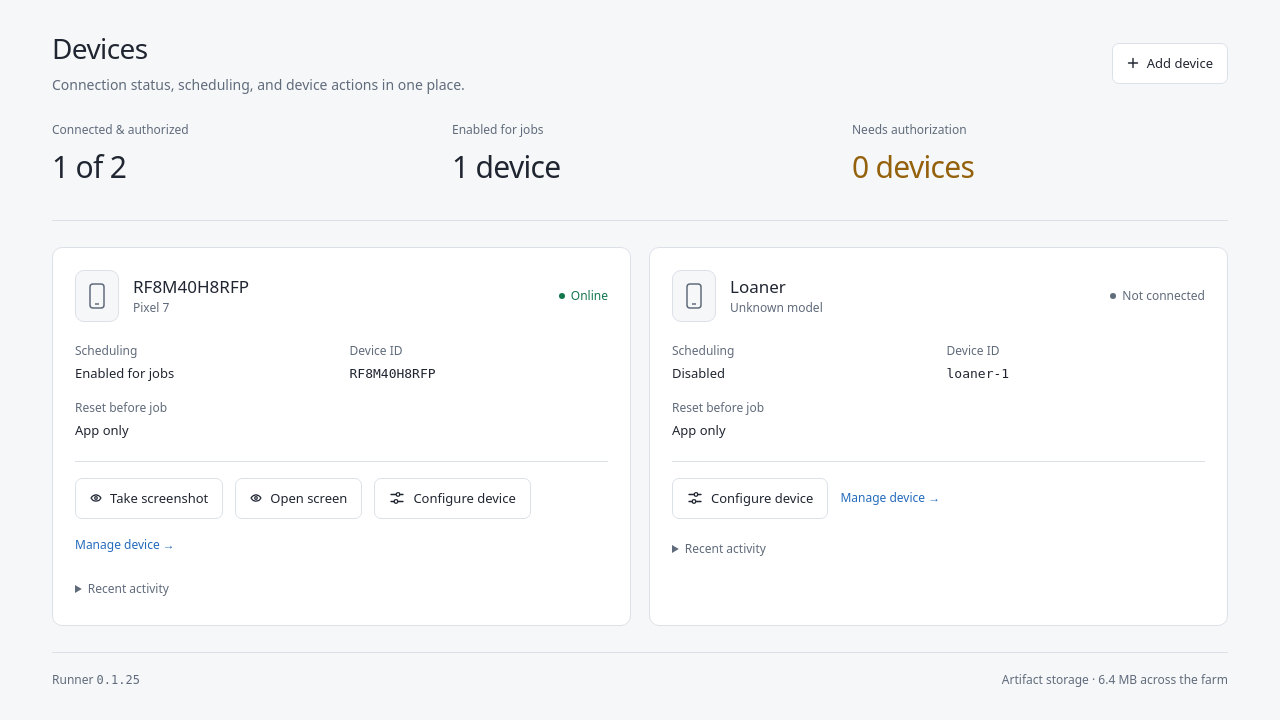
adding a device opens a form, submits it, and shows the returned setup instructions
Click the button "Add device".
click(1170, 63)  # box left=1112, top=42, right=1228, bottom=84
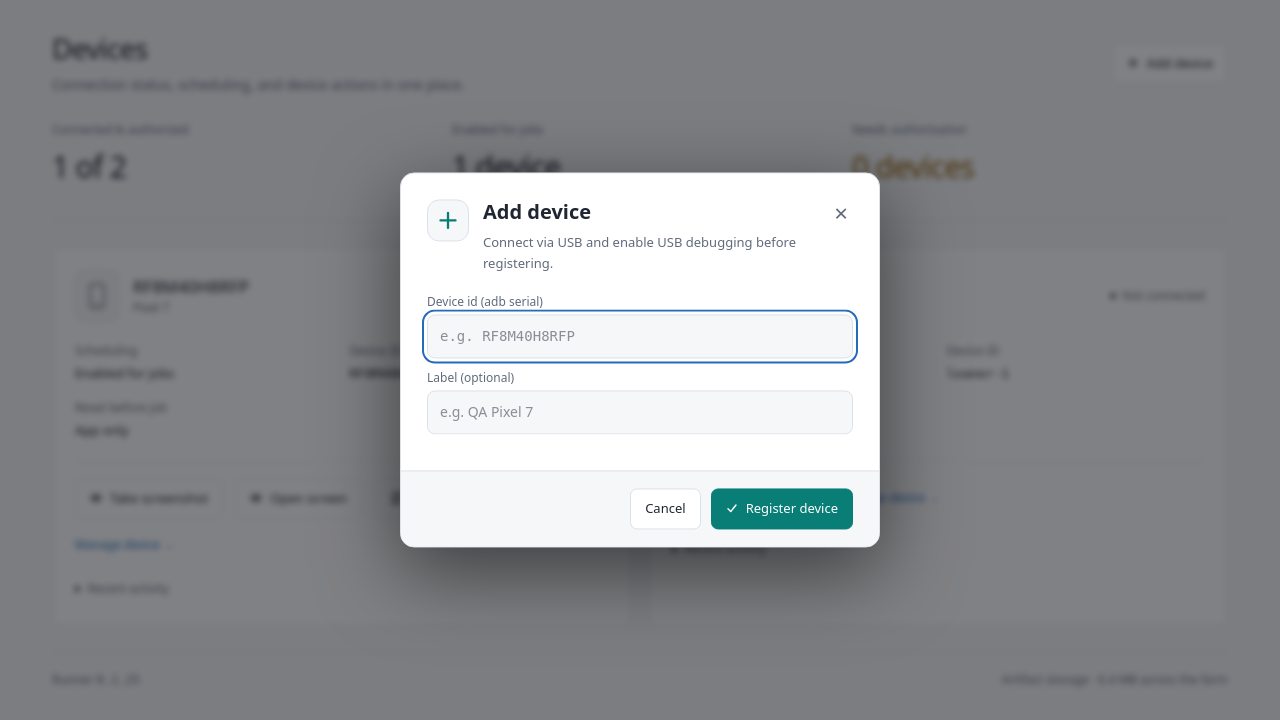
Type "new-1" into the field labelled "Device id (adb serial)".
click(640, 336); type("new-1")  # box left=427, top=314, right=853, bottom=358
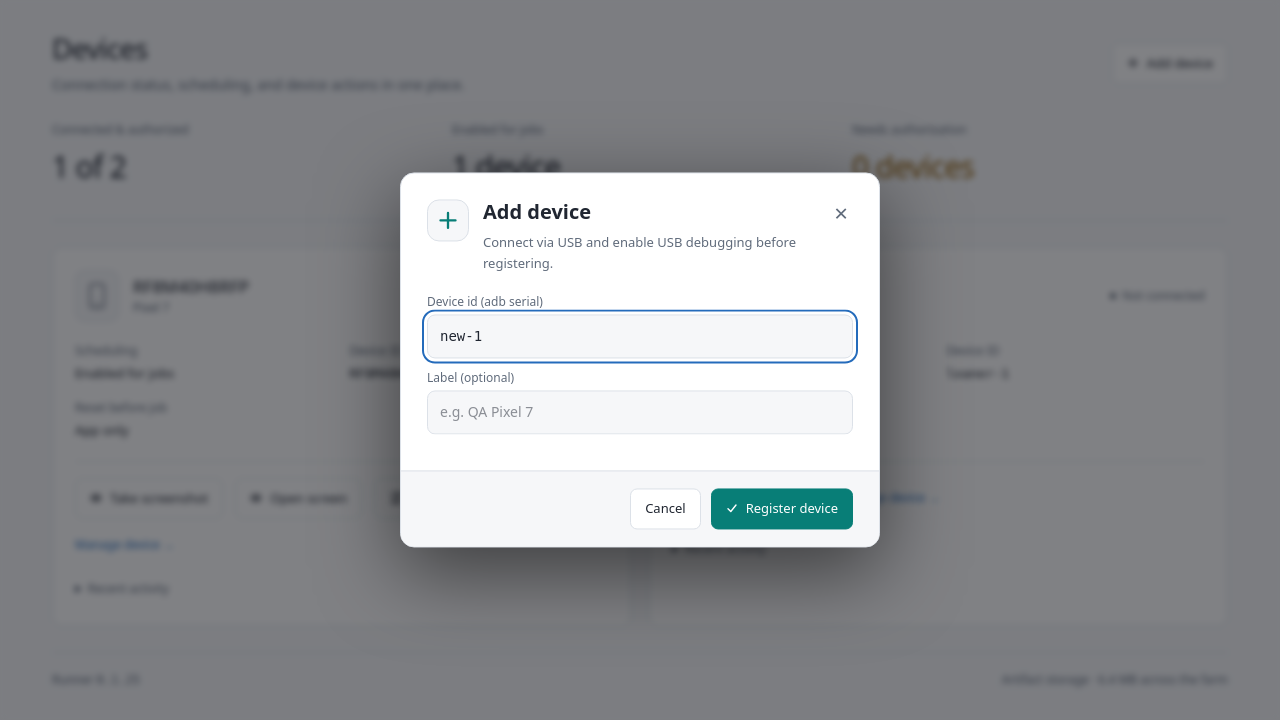
Type "New" into the field labelled "Label (optional)".
click(640, 412); type("New")  # box left=427, top=390, right=853, bottom=434
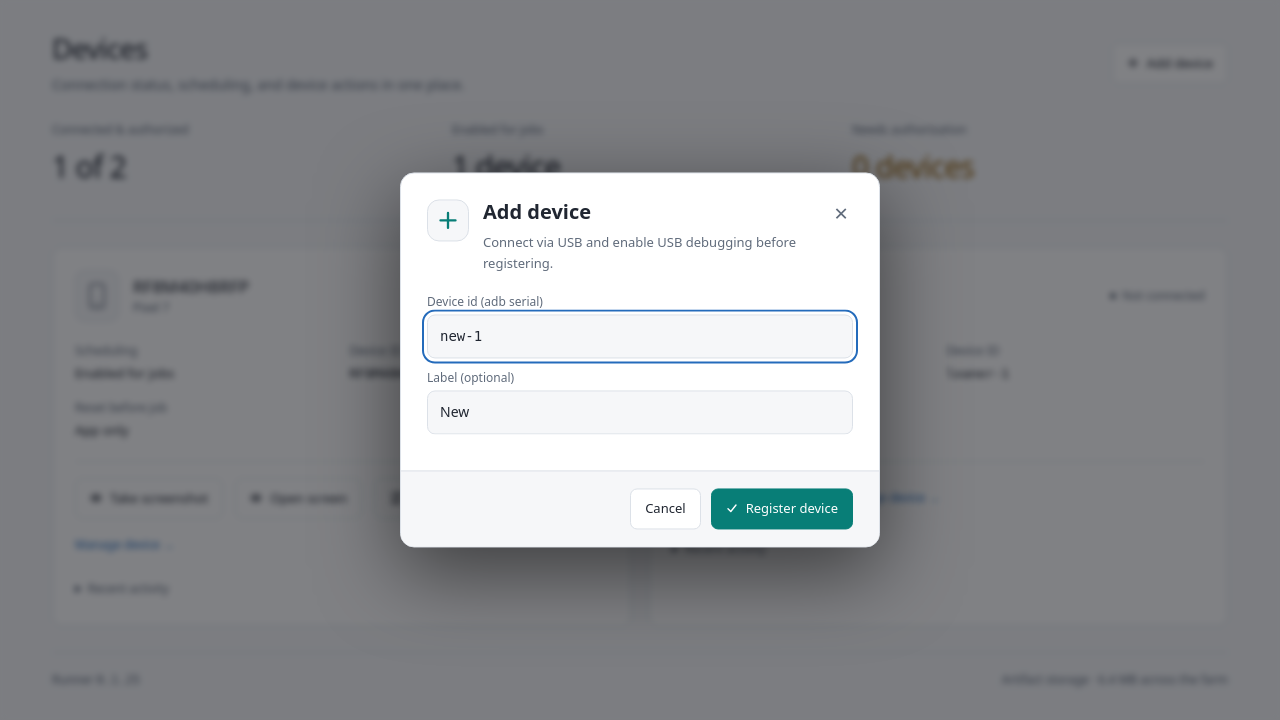
Click the button "Register device".
click(782, 509)  # box left=711, top=488, right=853, bottom=530
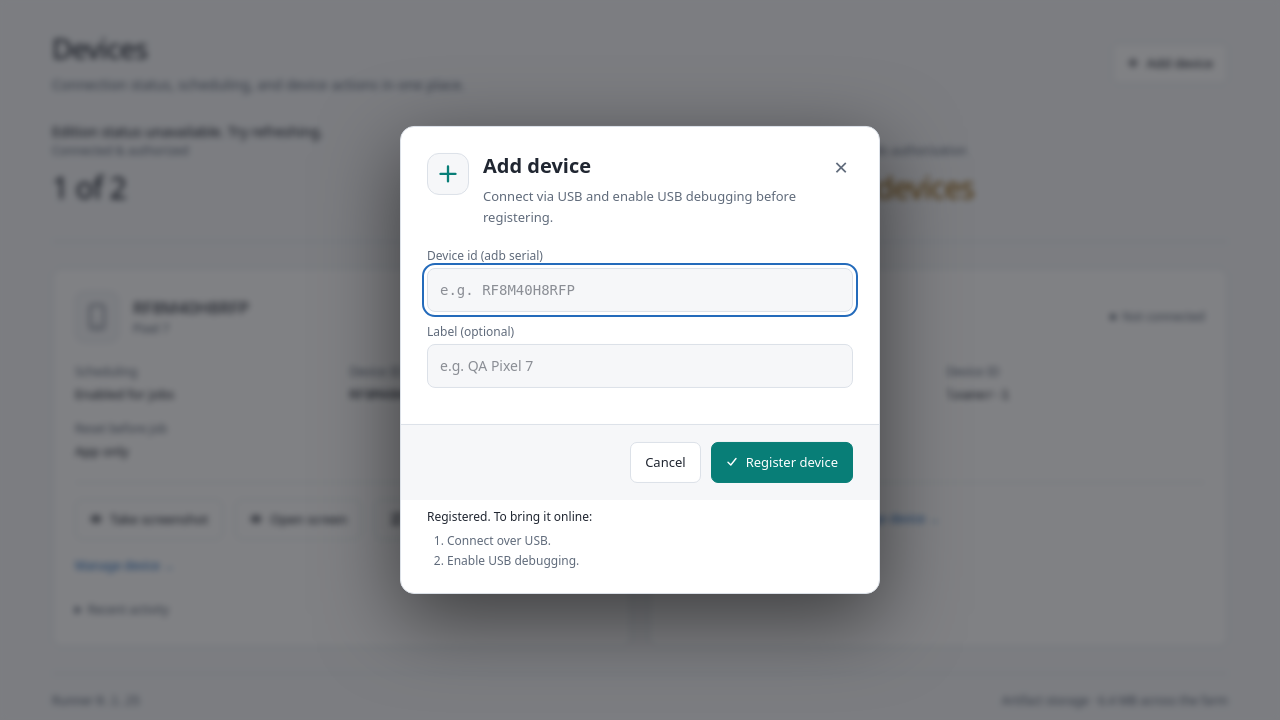
Expected: the list item "Connect over USB." is shown, left=447, top=532, right=551, bottom=549
